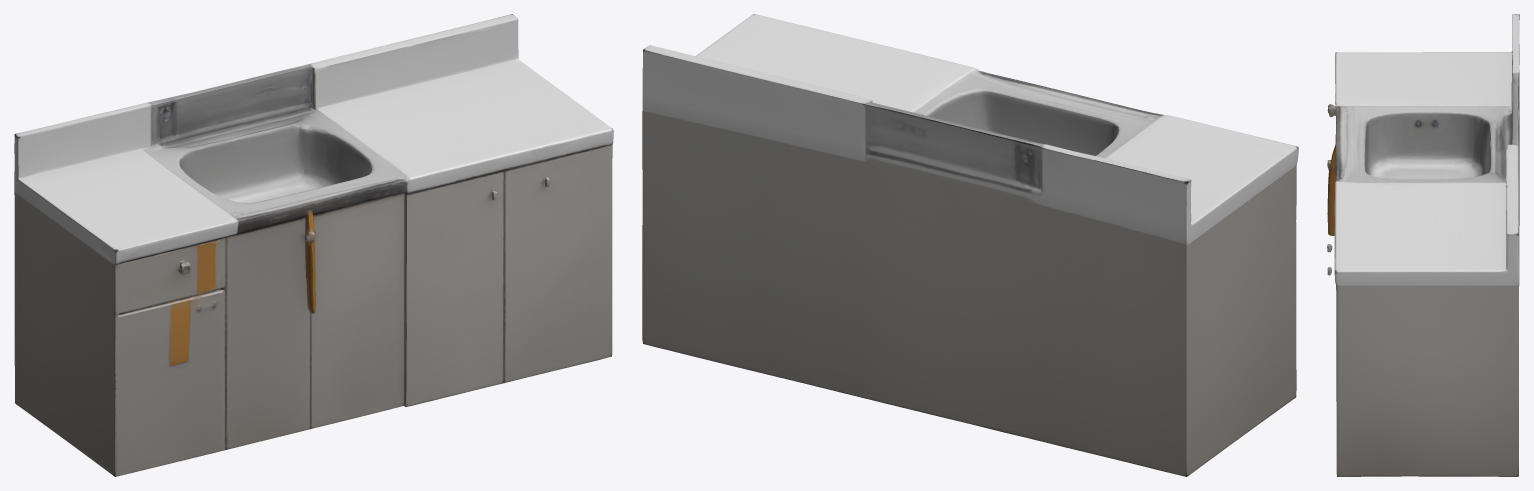
File: sink.glb
3 views of the same model, side by side, from view 1: azimuth 30°, elevation 25°; view 2: azimuth 150°, elevation 25°; view 3: azimuth 270°, elevation 25° (orthographic). The views are drawn at different scales.
Visible parts, largest first — view 1: world; view 2: world; view 3: world.
Boxes of the visible parts, bbox=[...] form: world: bbox=[14, 14, 613, 476]; world: bbox=[642, 14, 1298, 476]; world: bbox=[1327, 14, 1519, 476].
Bounding box in the file's own units: 1 × 0.521 × 0.3708.
1 material, 1 textured.
